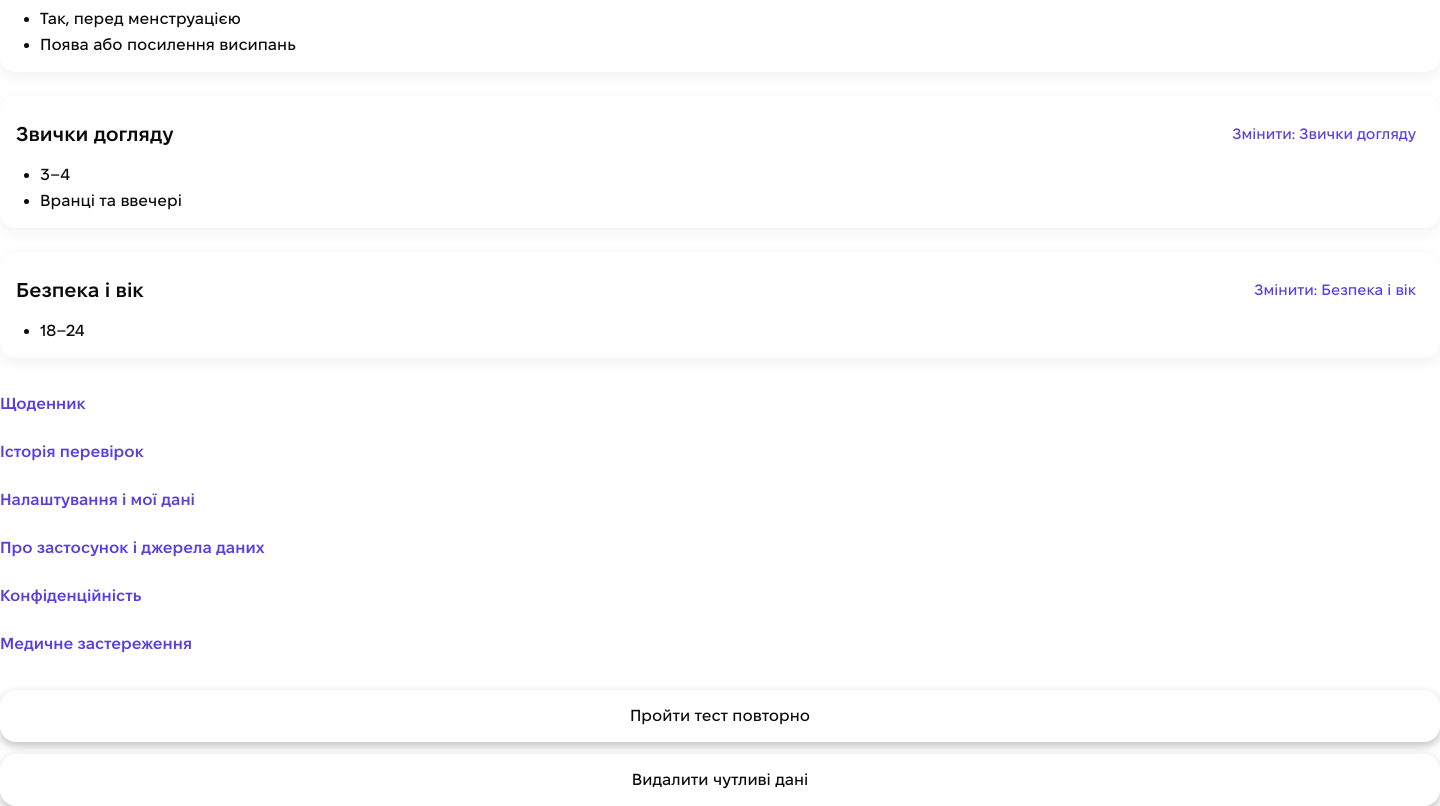
Test case: ProfilePage › "Delete sensitive data" asks first; "Cancel" changes nothing
(page scrolled)
Click the button "Видалити чутливі дані": coordinates (720, 780) [0,754,1439,805]
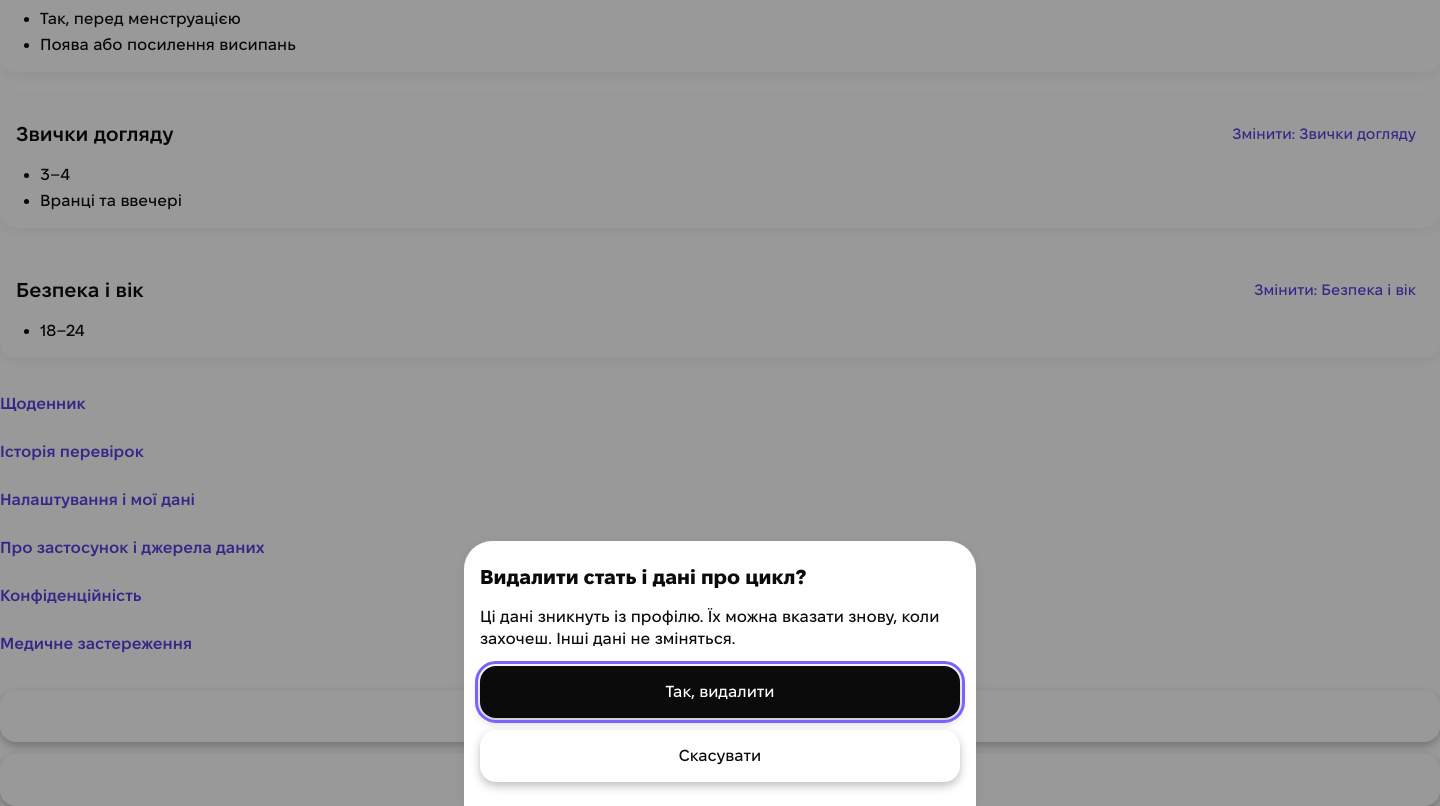
Now the dialog is shown, box [464,541,976,805]
Click the button "Скасувати": coordinates (720, 756) [480,730,960,782]
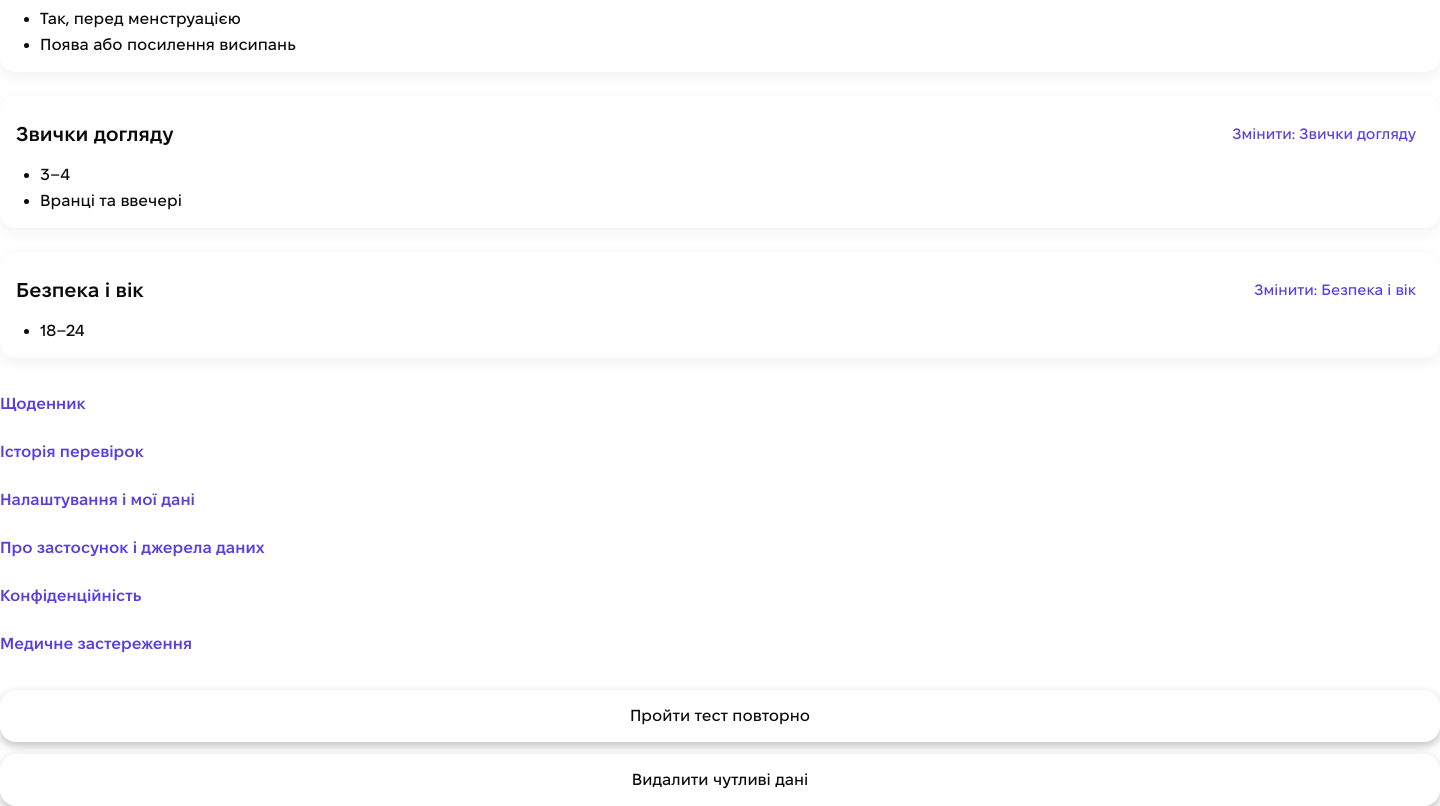
Now the dialog is gone
